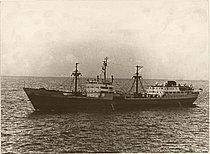Ship: (19, 55, 206, 119)
